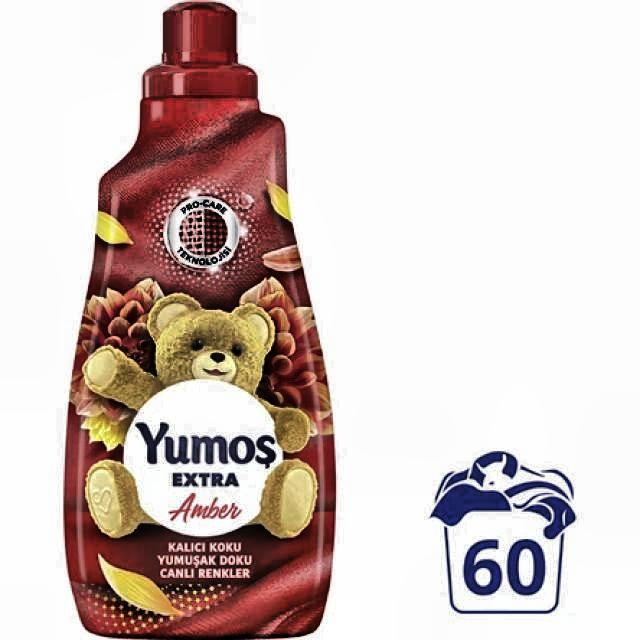plastic: (61, 1, 338, 640)
